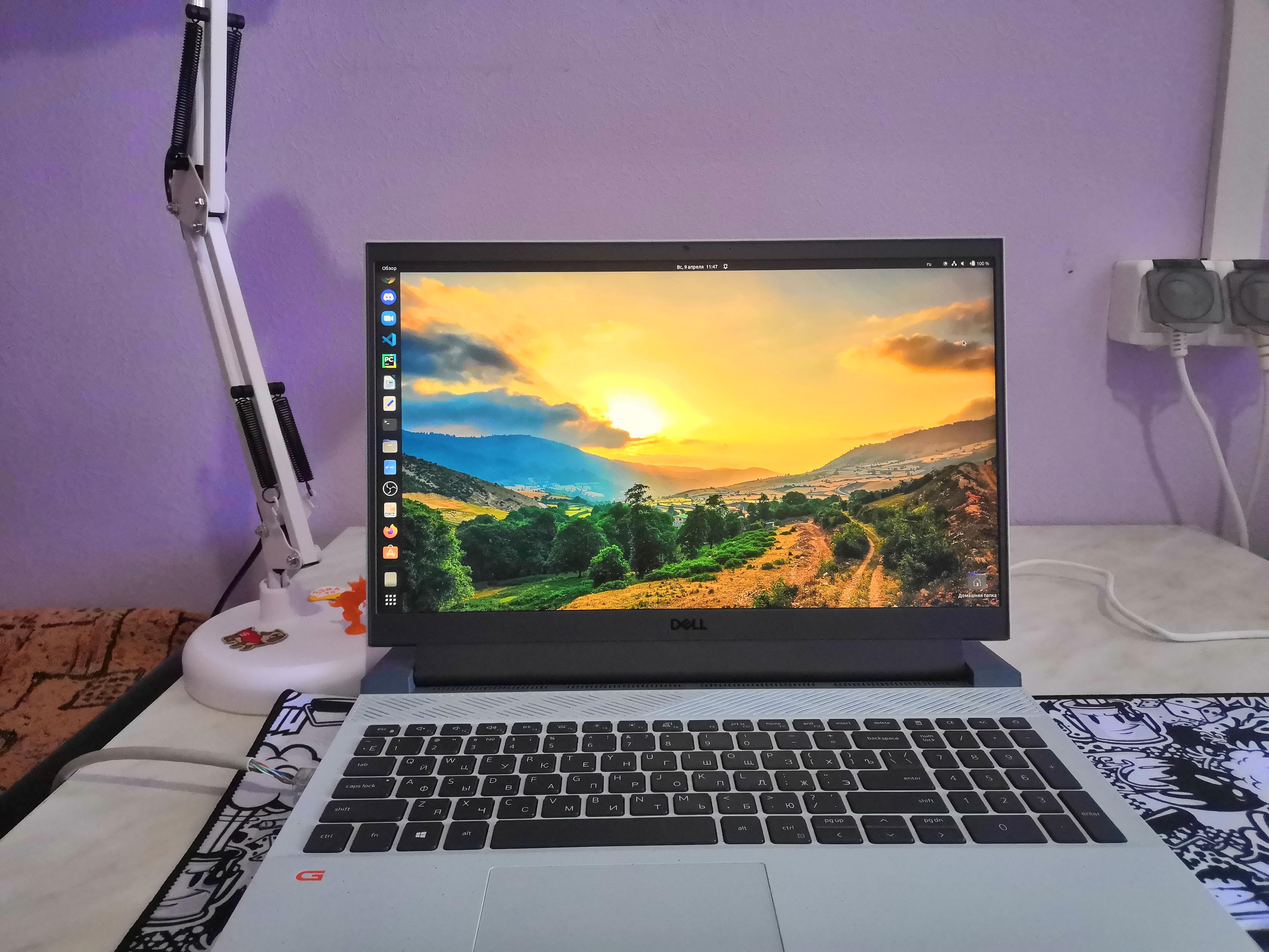monitor: (362, 233, 1013, 667)
